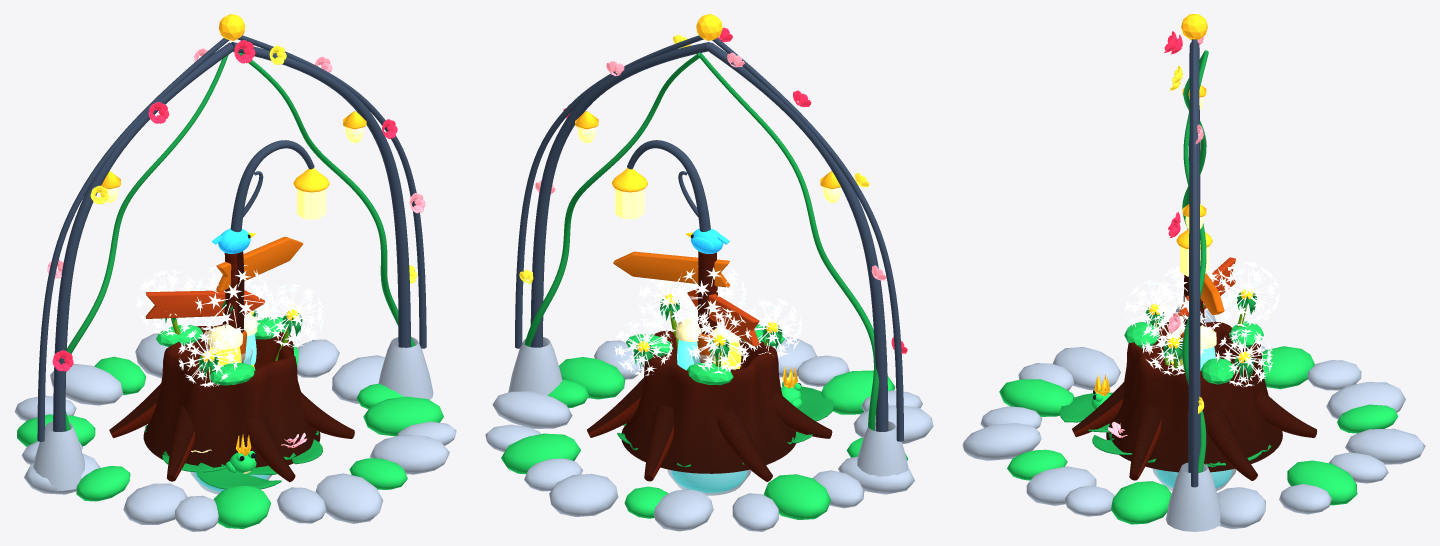
File: fairytale_landmarks.glb
3 views of the same model, side by side, from view 1: azimuth 30°, elevation 25°; view 2: azimuth 150°, elevation 25°; view 3: azimuth 270°, elevation 25° (orthographic).
Parts seen in each view (by area): view 1: DewPondStaticMerged, RoseArchMerged, AncientStumpTrunk, DandelionClusterMerged, ArrowBoard_1, ArrowBoard_0, IronLampCrook, ButtressRoot_4, ButtressRoot_3, GnarledSignPost, ButtressRoot_5, ButtressRoot_2 (+6 smaller); view 2: DewPondStaticMerged, RoseArchMerged, AncientStumpTrunk, DandelionClusterMerged, ArrowBoard_0, ButtressRoot_2, BottleGlassMesh, ButtressRoot_1, IronLampCrook, ArrowBoard_1, StarSandDune, ButtressRoot_3 (+6 smaller); view 3: DewPondStaticMerged, RoseArchMerged, AncientStumpTrunk, DandelionClusterMerged, ButtressRoot_0, ButtressRoot_5, ButtressRoot_1, ButtressRoot_4, BottleGlassMesh, Icosphere.003, Icosphere.005, ArrowBoard_0 (+1 smaller).
Boxes of the visible parts, box(x1,y1,x2,y2) form: DewPondStaticMerged: box(14, 333, 456, 531); RoseArchMerged: box(33, 14, 433, 490); AncientStumpTrunk: box(143, 324, 320, 467); DandelionClusterMerged: box(136, 262, 324, 468); ArrowBoard_1: box(145, 290, 264, 318); ArrowBoard_0: box(216, 236, 303, 291); IronLampCrook: box(230, 140, 314, 232); ButtressRoot_4: box(246, 416, 295, 482); ButtressRoot_3: box(167, 405, 194, 481); GnarledSignPost: box(222, 251, 244, 362); ButtressRoot_5: box(299, 390, 354, 438); ButtressRoot_2: box(109, 383, 161, 437); DewPondStaticMerged: box(485, 333, 933, 531); RoseArchMerged: box(508, 14, 908, 476); AncientStumpTrunk: box(621, 330, 796, 473); DandelionClusterMerged: box(614, 266, 802, 467); ArrowBoard_0: box(613, 251, 729, 287); ButtressRoot_2: box(716, 411, 772, 481); BottleGlassMesh: box(667, 354, 751, 495); ButtressRoot_1: box(644, 405, 673, 481); IronLampCrook: box(627, 140, 710, 231); ArrowBoard_1: box(687, 289, 759, 346); StarSandDune: box(671, 470, 746, 492); ButtressRoot_3: box(770, 392, 832, 438); DewPondStaticMerged: box(962, 346, 1425, 528); RoseArchMerged: box(1164, 14, 1220, 531); AncientStumpTrunk: box(1106, 321, 1282, 472); DandelionClusterMerged: box(1108, 261, 1280, 467); ButtressRoot_0: box(1206, 409, 1257, 480); ButtressRoot_5: box(1129, 405, 1161, 480); ButtressRoot_1: box(1256, 387, 1317, 437); ButtressRoot_4: box(1072, 382, 1124, 436); BottleGlassMesh: box(1152, 349, 1236, 490); Icosphere.003: box(1200, 358, 1235, 384); Icosphere.005: box(1124, 322, 1159, 348); ArrowBoard_0: box(1200, 273, 1224, 314).
Size of the model in its own units: 1.76 by 1.99 by 1.77.
38 materials, 2 textured.
